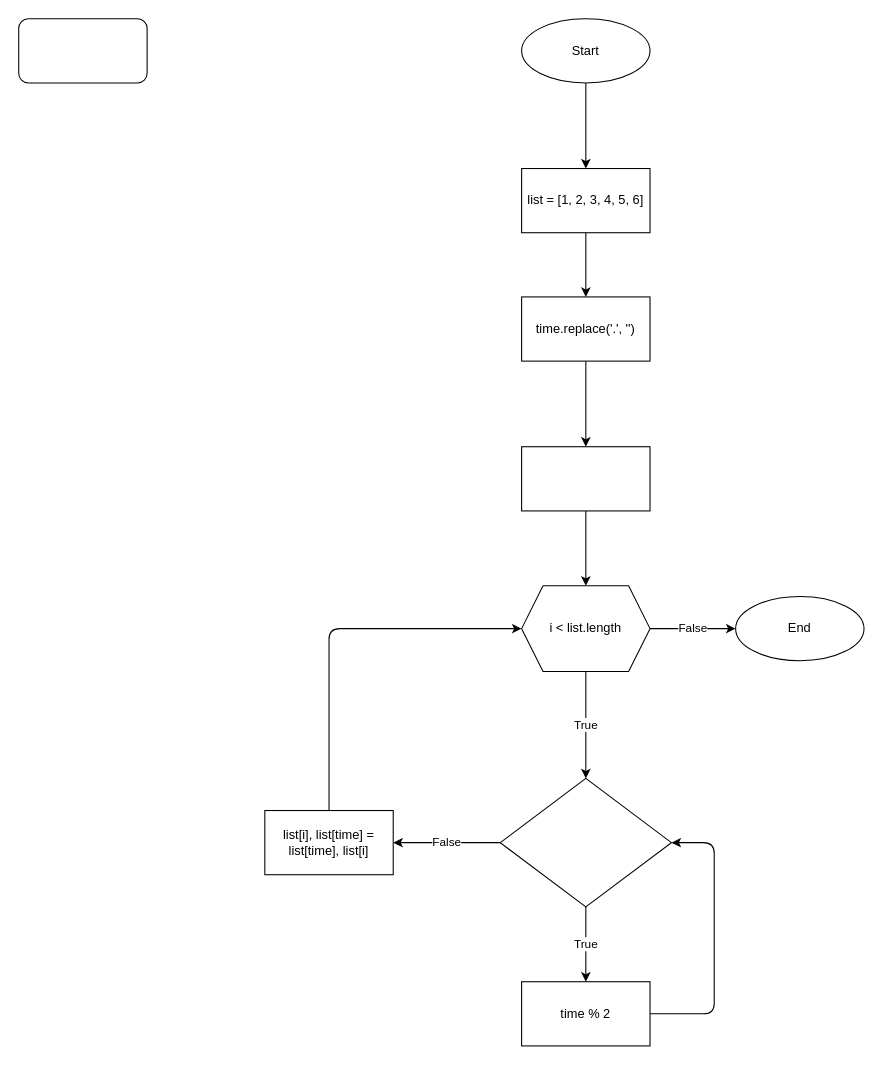
The diagram is 883 pixels wide and 1065 high, and some of its shapes have lost their labels. The centre of each missing label's shape, as x and y in pixels:
"time %= 10" goes at pixel 585 478.
"while time > time.length - 1" goes at pixel 585 842.
"Реализовать алгоритм перемешивания списка" goes at pixel 82 50.
